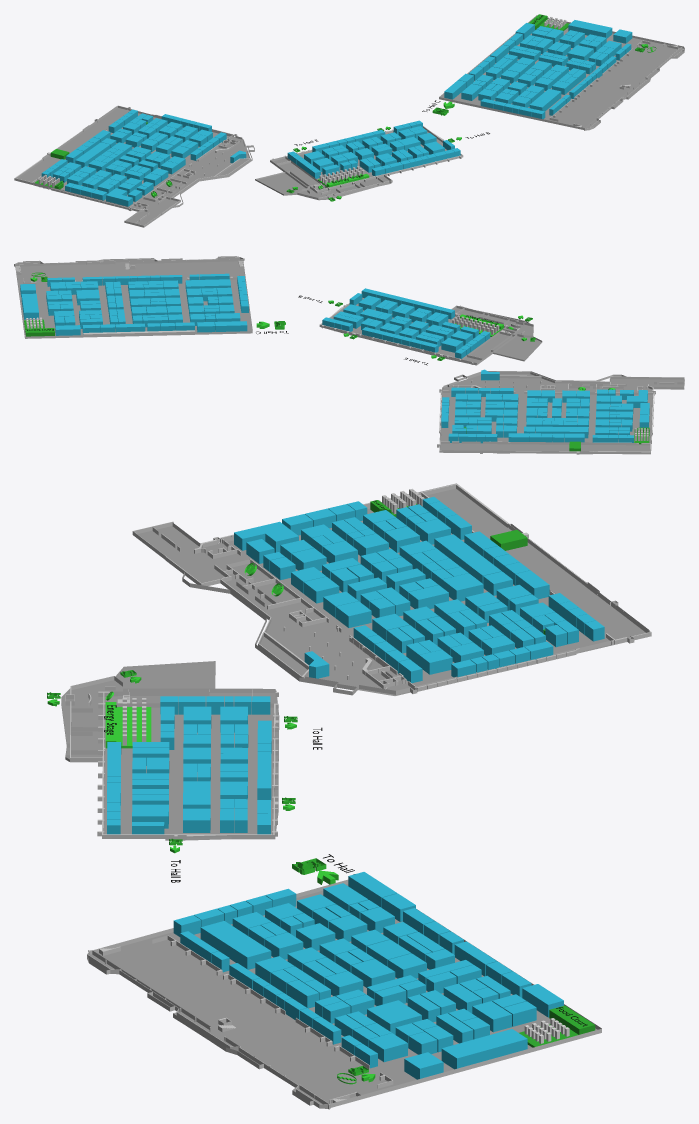
File: all_in_one.glb
The picture shows the model from 3 angles, top to bottom: view 1: azimuth 30°, elevation 25°; view 2: azimuth 150°, elevation 25°; view 3: azimuth 270°, elevation 25°; orthographic projection. The views are drawn at different scales.
Visible parts, largest first — view 1: Plane.001, Background_curve_.001, Building_curve_.013, Plane, Building_curve_, Building_curve_.002, Background_curve_, BOOTHLAYER_curve_.B-3190, BOOTHLAYER_curve_.B-6030, BOOTHLAYER_curve_.E-2050, BOOTHLAYER_curve_.E-6000; view 2: Background_curve_.001, Plane.001, Building_curve_.013, Plane, Building_curve_, Building_curve_.002, Background_curve_, Background, BOOTHLAYER_curve_.B-6030, BOOTHLAYER_curve_.E-2050, BOOTHLAYER_curve_.B-3190, 0_curve_ (+1 smaller); view 3: Plane.001, Background_curve_.001, Plane, Building_curve_.013, Building_curve_.002, Building_curve_, Background_curve_, BOOTHLAYER_curve_.B-3190, BOOTHLAYER_curve_.B-6030, Background, Energy_Stage.001, BOOTHLAYER_curve_.E-2050 (+3 smaller).
Boxes of the visible parts, x1,y1,x2,y2 form: Plane.001: (441, 27, 683, 128); Background_curve_.001: (18, 108, 249, 227); Building_curve_.013: (14, 105, 254, 227); Plane: (257, 131, 446, 198); Building_curve_: (270, 126, 463, 199); Building_curve_.002: (439, 15, 684, 130); Background_curve_: (439, 21, 684, 130); BOOTHLAYER_curve_.B-3190: (568, 20, 612, 38); BOOTHLAYER_curve_.B-6030: (529, 89, 561, 111); BOOTHLAYER_curve_.E-2050: (75, 142, 110, 167); BOOTHLAYER_curve_.E-6000: (106, 188, 132, 206); Background_curve_.001: (439, 374, 684, 454); Plane.001: (16, 261, 252, 336); Building_curve_.013: (437, 371, 684, 454); Plane: (332, 297, 540, 362); Building_curve_: (319, 303, 533, 364); Building_curve_.002: (14, 257, 244, 335); Background_curve_: (14, 256, 252, 338); Background: (319, 304, 542, 365); BOOTHLAYER_curve_.B-6030: (185, 279, 230, 292); BOOTHLAYER_curve_.E-2050: (536, 426, 588, 438); BOOTHLAYER_curve_.B-3190: (21, 293, 38, 319); 0_curve_: (24, 319, 54, 336); Plane.001: (89, 884, 597, 1104); Background_curve_.001: (137, 488, 647, 695); Plane: (61, 663, 279, 834); Building_curve_.013: (132, 483, 651, 695); Building_curve_.002: (87, 909, 601, 1109); Building_curve_: (65, 676, 278, 839); Background_curve_: (87, 879, 601, 1109); BOOTHLAYER_curve_.B-3190: (441, 1029, 527, 1069); BOOTHLAYER_curve_.B-6030: (200, 921, 271, 969); Background: (61, 661, 279, 840); Energy_Stage.001: (105, 702, 151, 748); BOOTHLAYER_curve_.E-2050: (434, 534, 501, 583).
Bounding box in the file's own units: 273 × 3.38 × 112.
